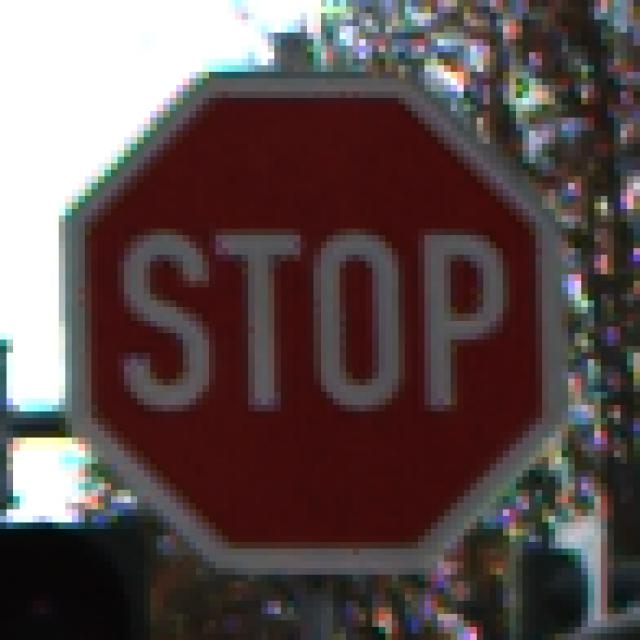STOP: (53, 60, 589, 589)
